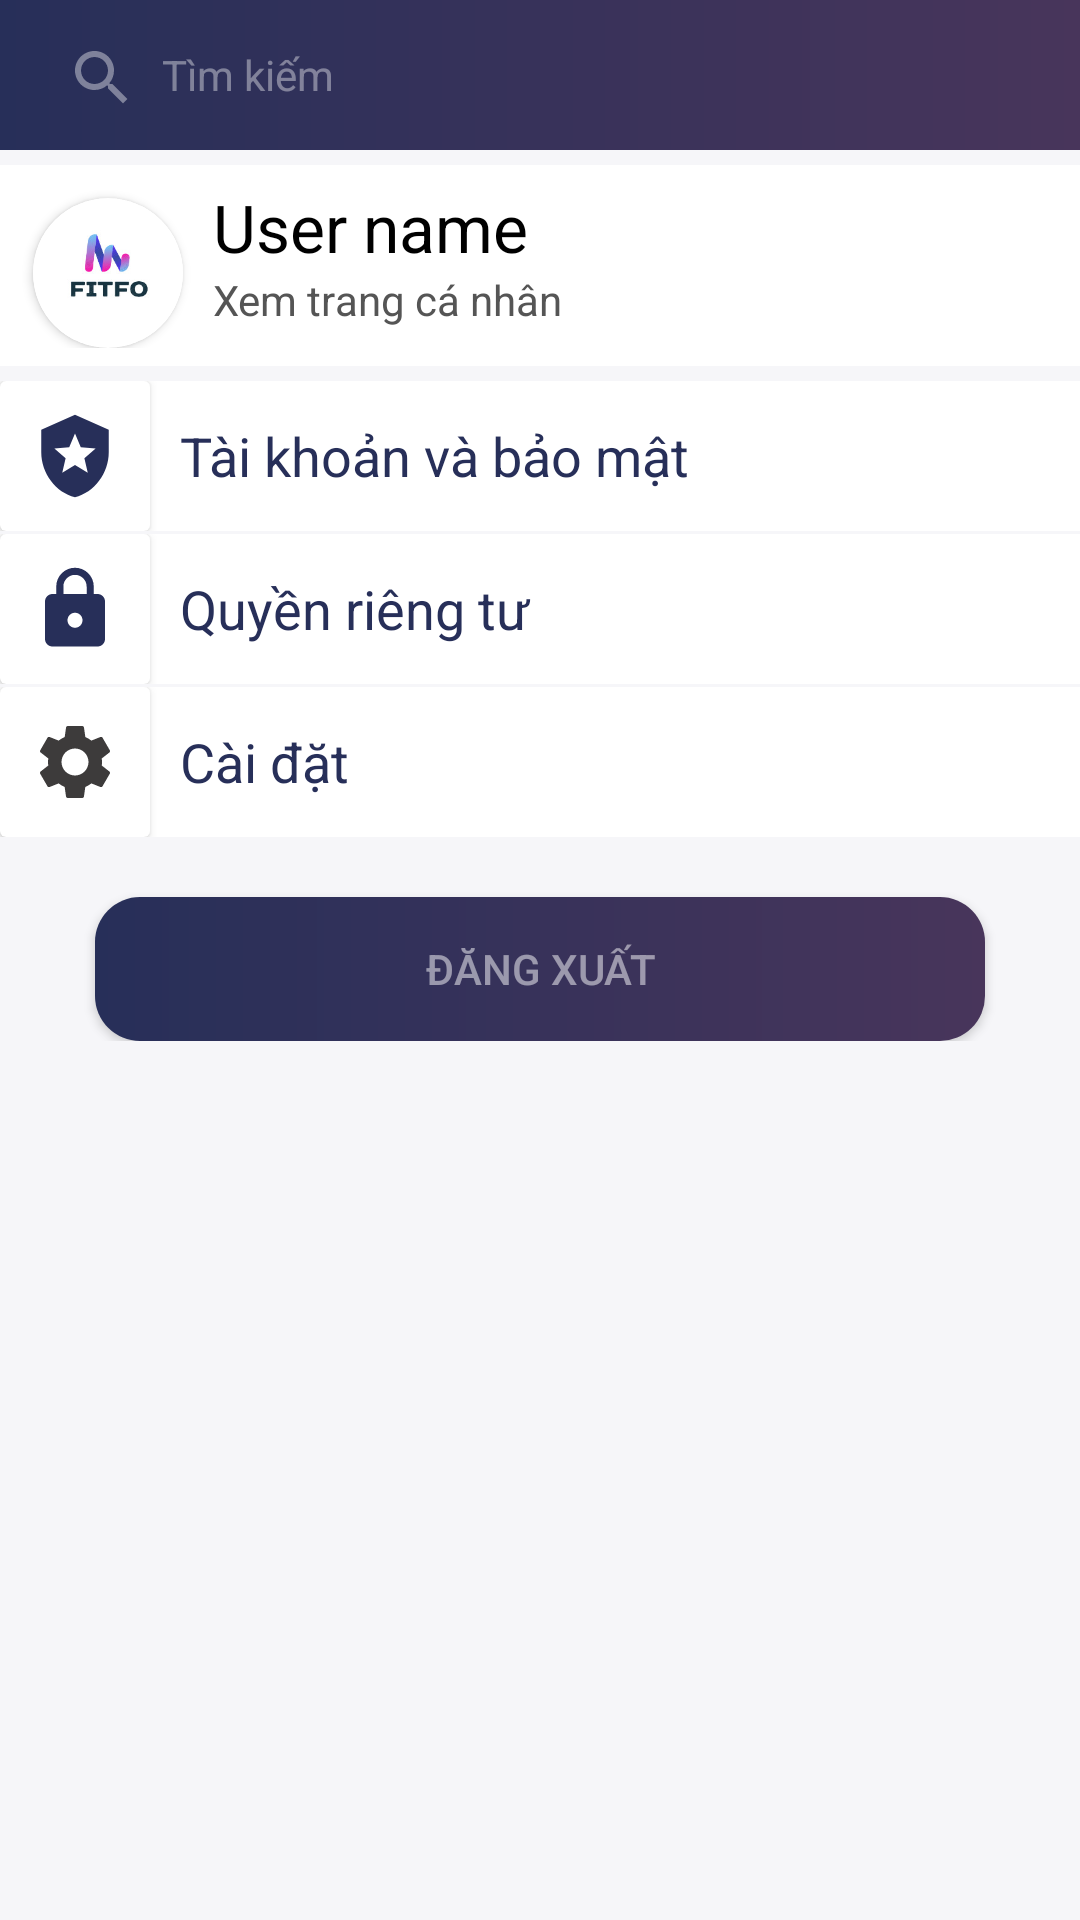

Where to tap for icons on this 1080×1920 app screen, as [x,y]:
local police: [75,456]
lock: [75,607]
search: [101,77]
settings: [75,762]
